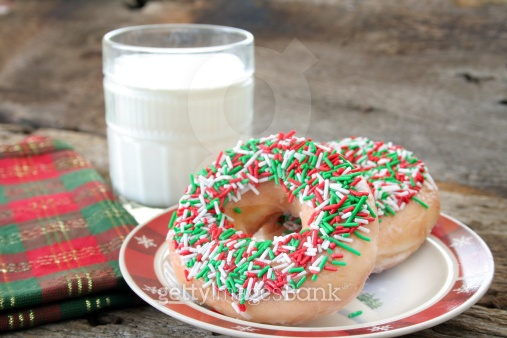glass of milk: (99, 17, 257, 220)
slice of bread: (172, 135, 378, 323), (300, 128, 449, 270)
